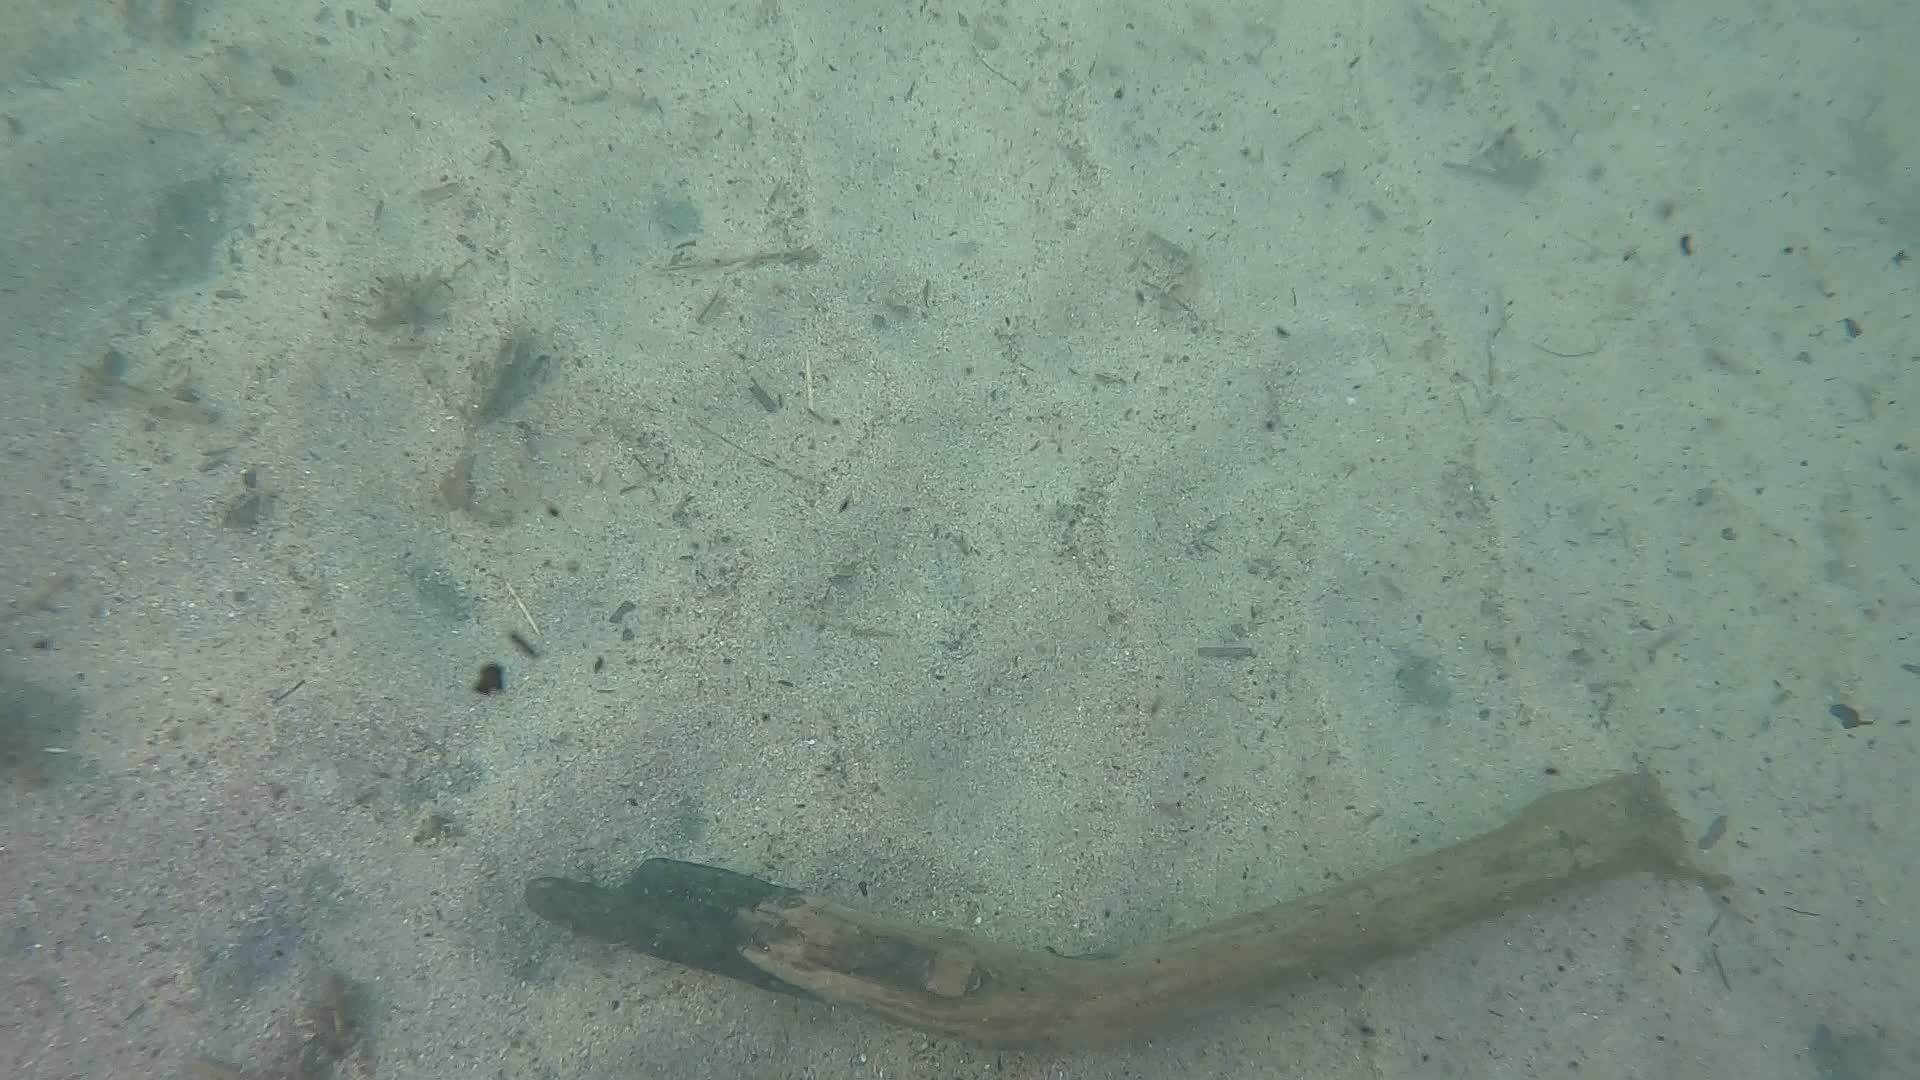wood: (513, 767, 1722, 1044)
